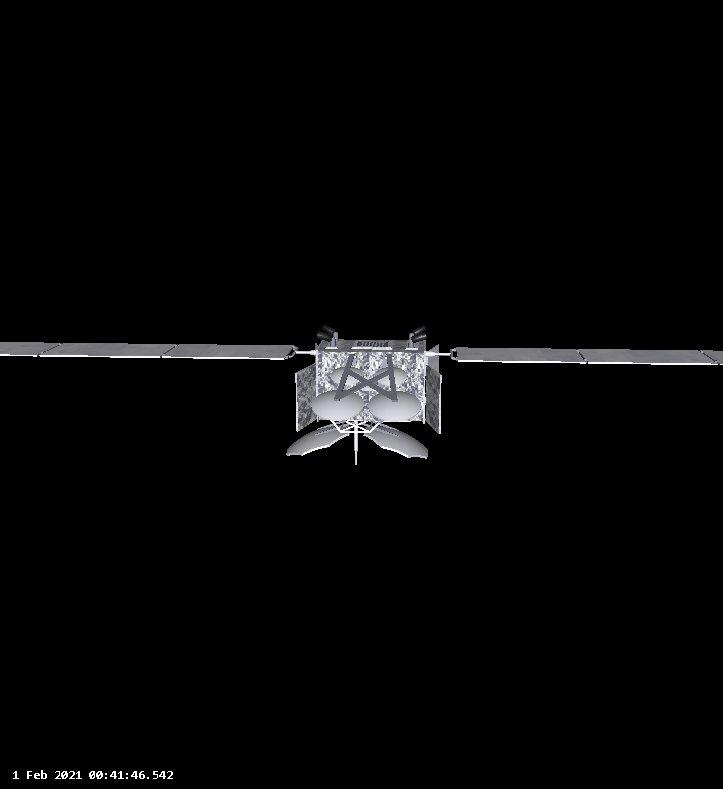antenna: (284, 419, 431, 469), (310, 387, 367, 423), (366, 390, 423, 423), (327, 365, 367, 387), (373, 365, 410, 388)
body: (314, 337, 428, 427)
solar: (0, 339, 299, 362), (454, 344, 723, 368)
thruster: (408, 324, 430, 337), (314, 329, 336, 342), (411, 329, 430, 344), (318, 321, 337, 335)
